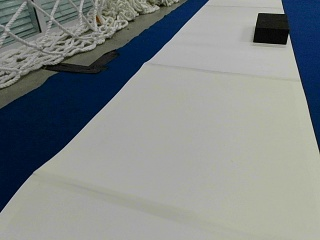block: (253, 12, 288, 44)
